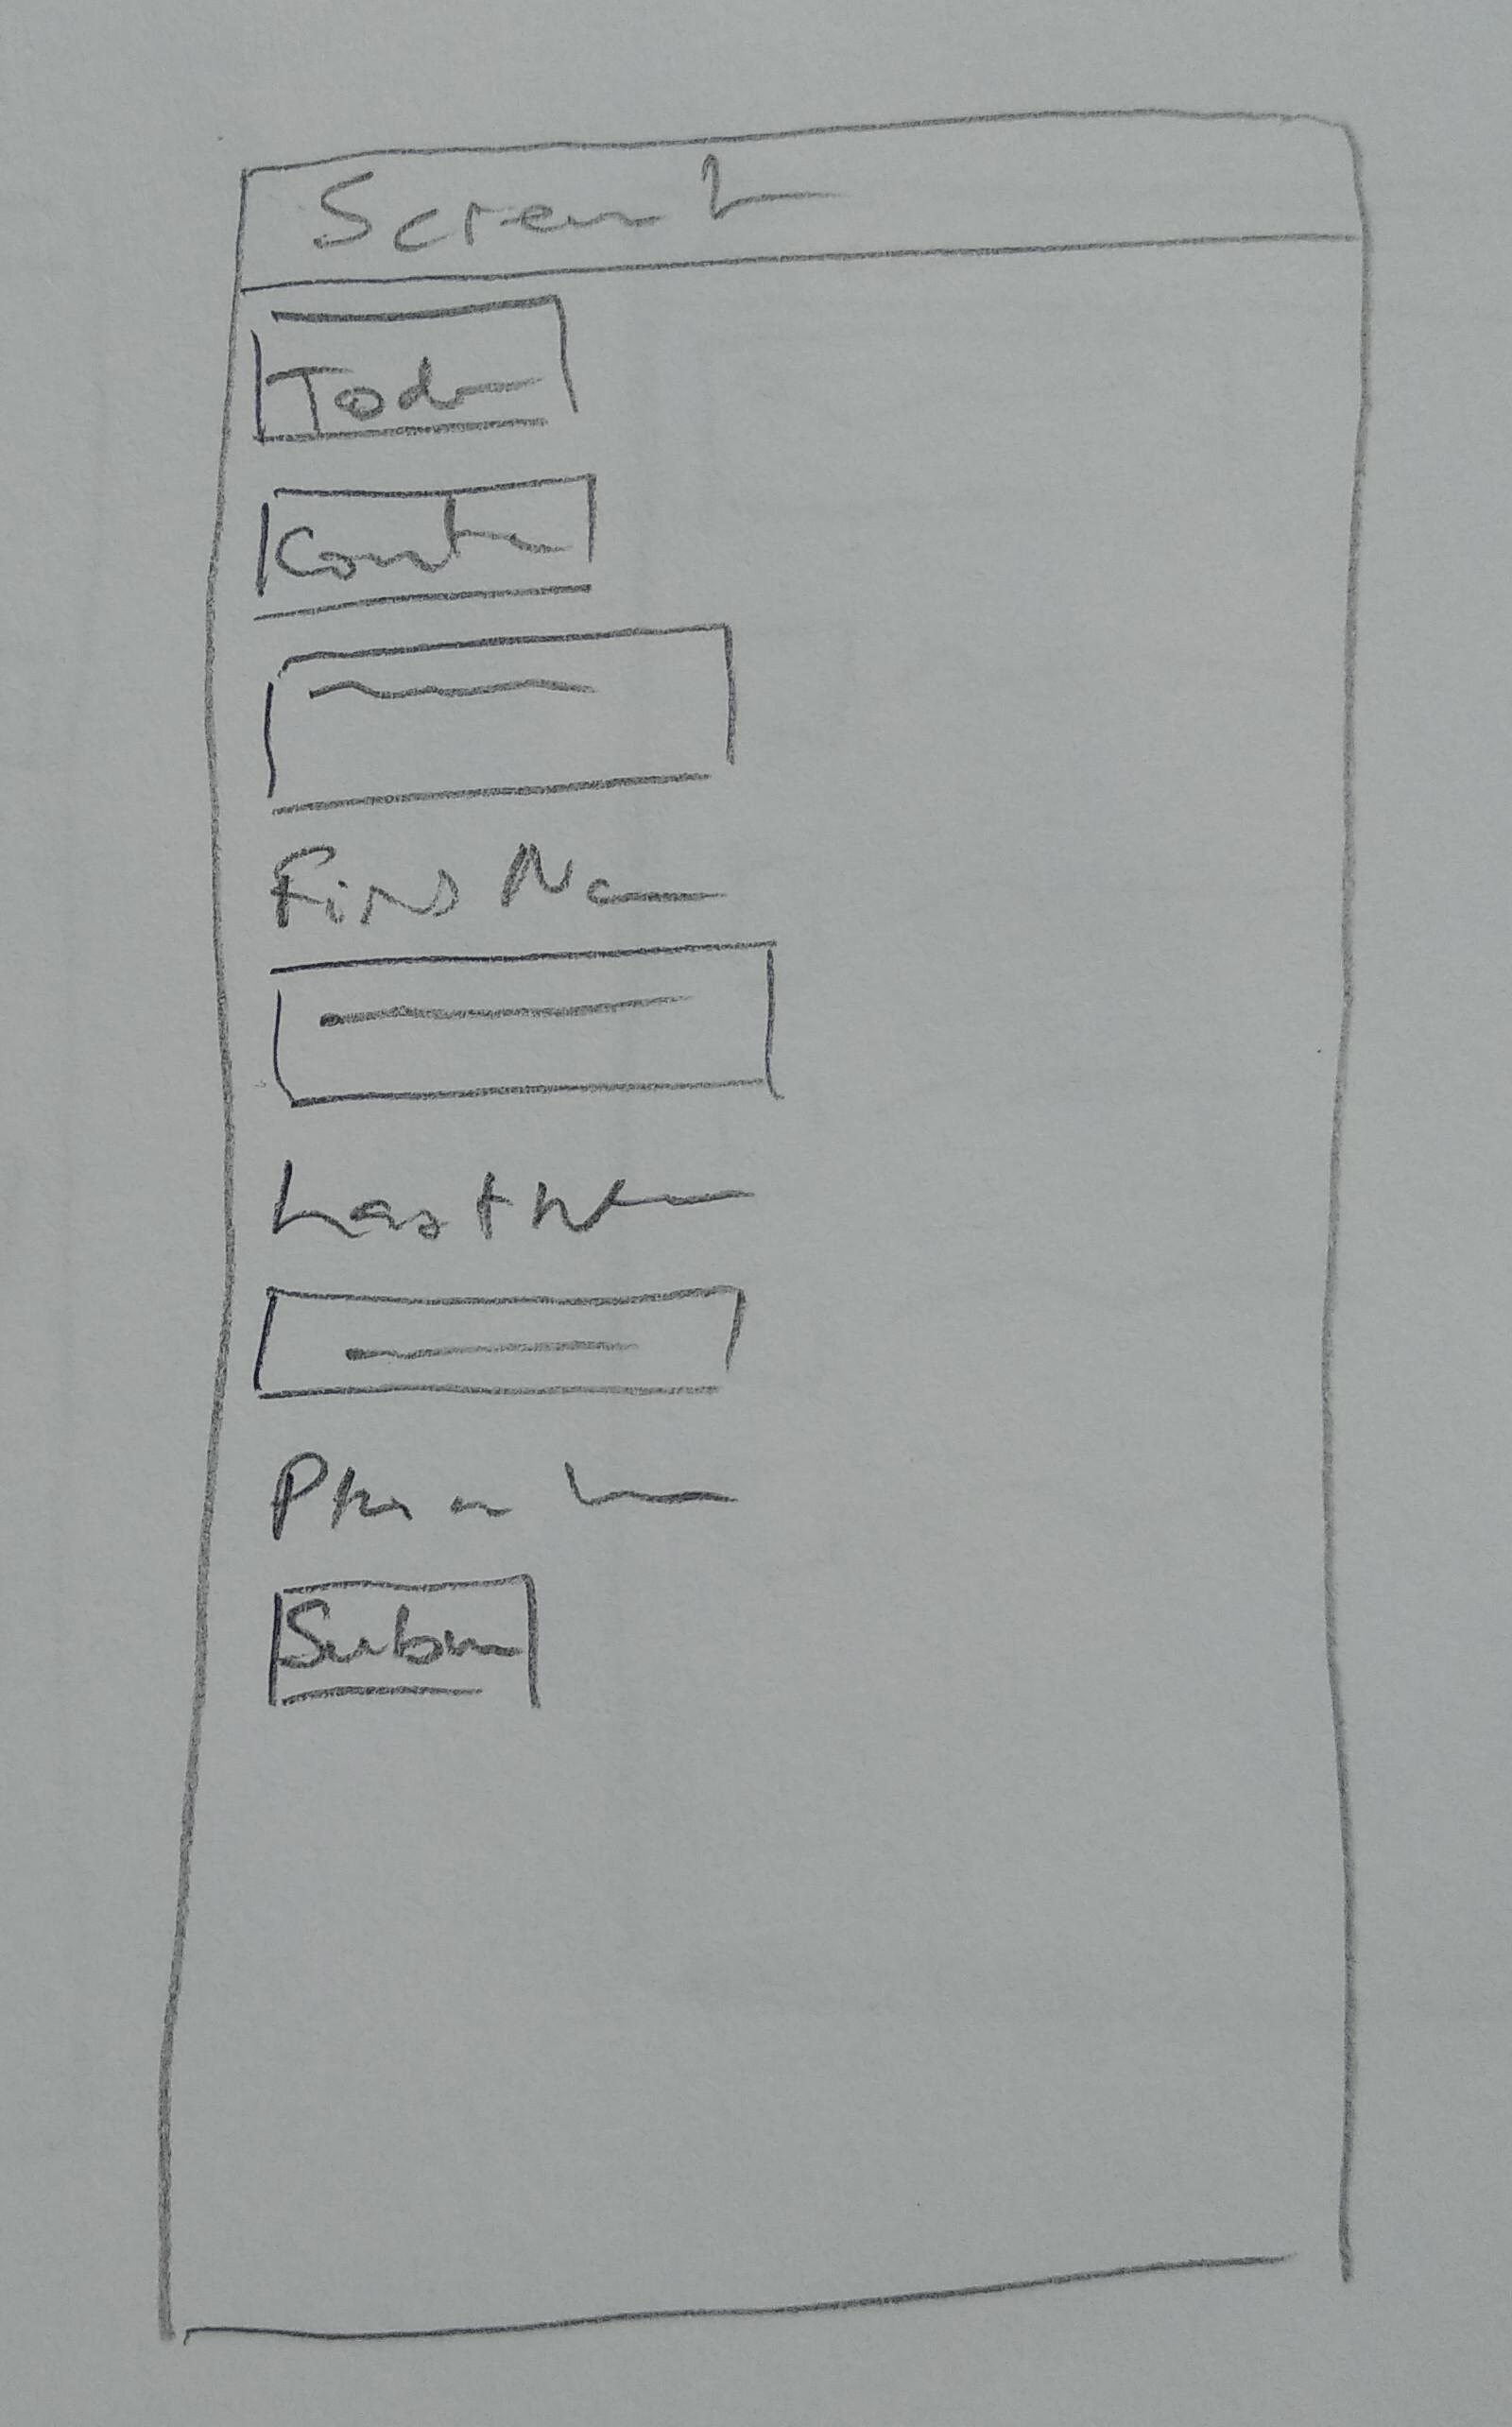Button: (272, 936, 782, 1106), (254, 1286, 746, 1401), (253, 470, 596, 620), (249, 293, 577, 450), (267, 1573, 540, 1702)
Label: (307, 141, 852, 267), (263, 1152, 761, 1249), (267, 836, 728, 936), (265, 1457, 735, 1542)
Screen: (153, 110, 1373, 2343)
TextBox: (261, 624, 744, 814)
